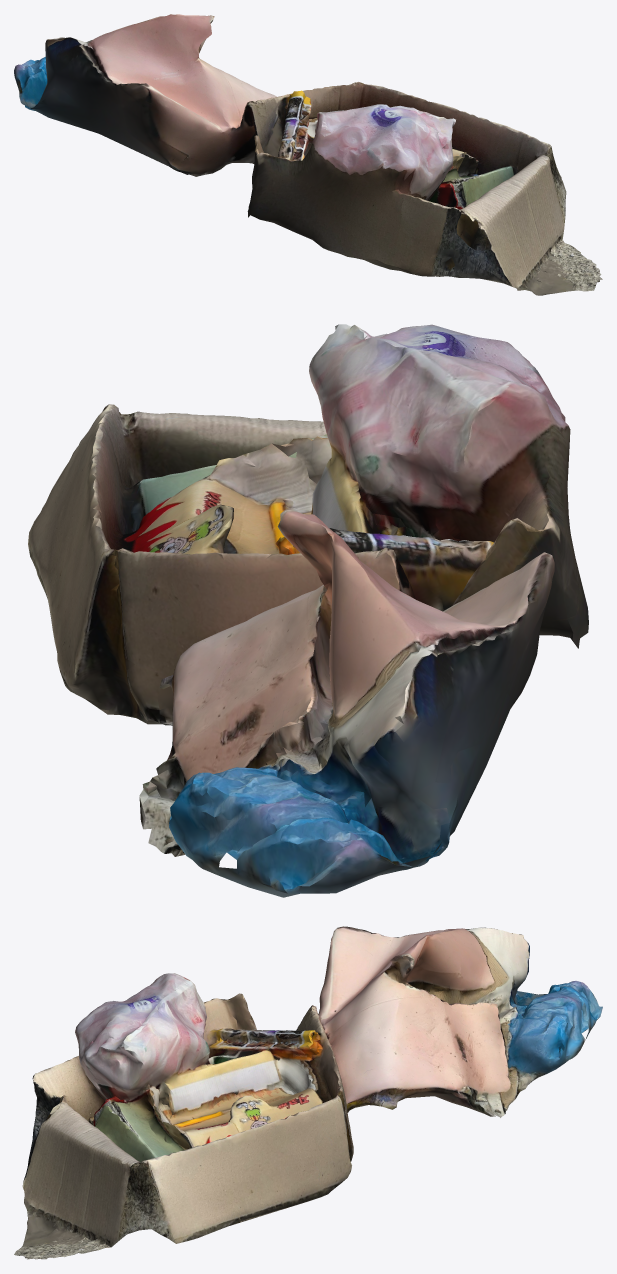
3 renders of one model, top to bottom at view 1: azimuth 30°, elevation 25°; view 2: azimuth 150°, elevation 25°; view 3: azimuth 270°, elevation 25°, orthographic. The views are drawn at different scales.
Visible parts, largest first — view 1: Default; view 2: Default; view 3: Default.
Part boxes in pixels (x1,y1,x2,y2): Default: [14, 14, 602, 295]; Default: [28, 324, 588, 897]; Default: [14, 926, 602, 1259].
Size of the model in its own units: 0.00155 by 0.000761 by 0.00201.
Materials: 1 (1 with a texture image).
